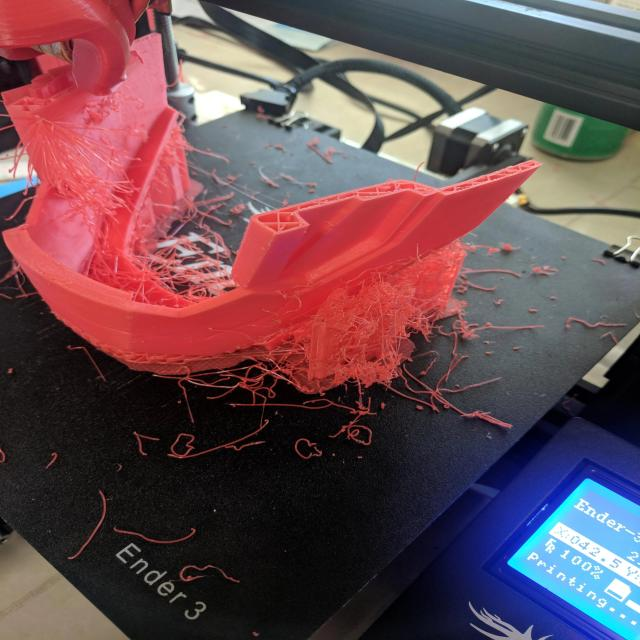spaghetti: (272, 294, 535, 421)
